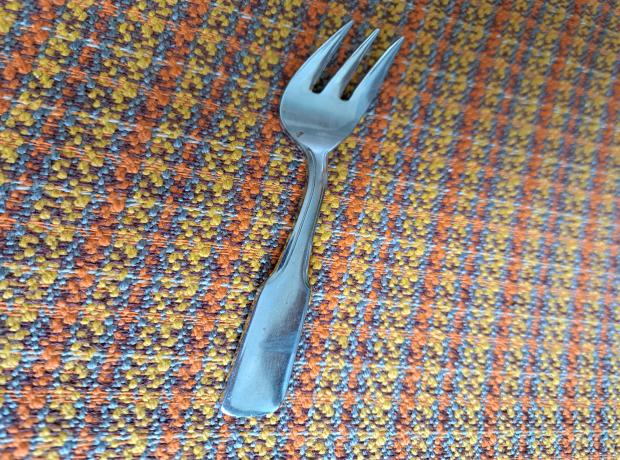metal: (216, 17, 410, 416)
